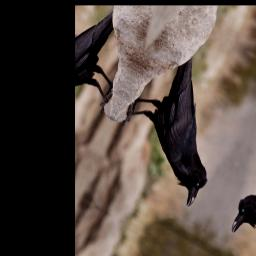Crow: (105, 39, 254, 213)
